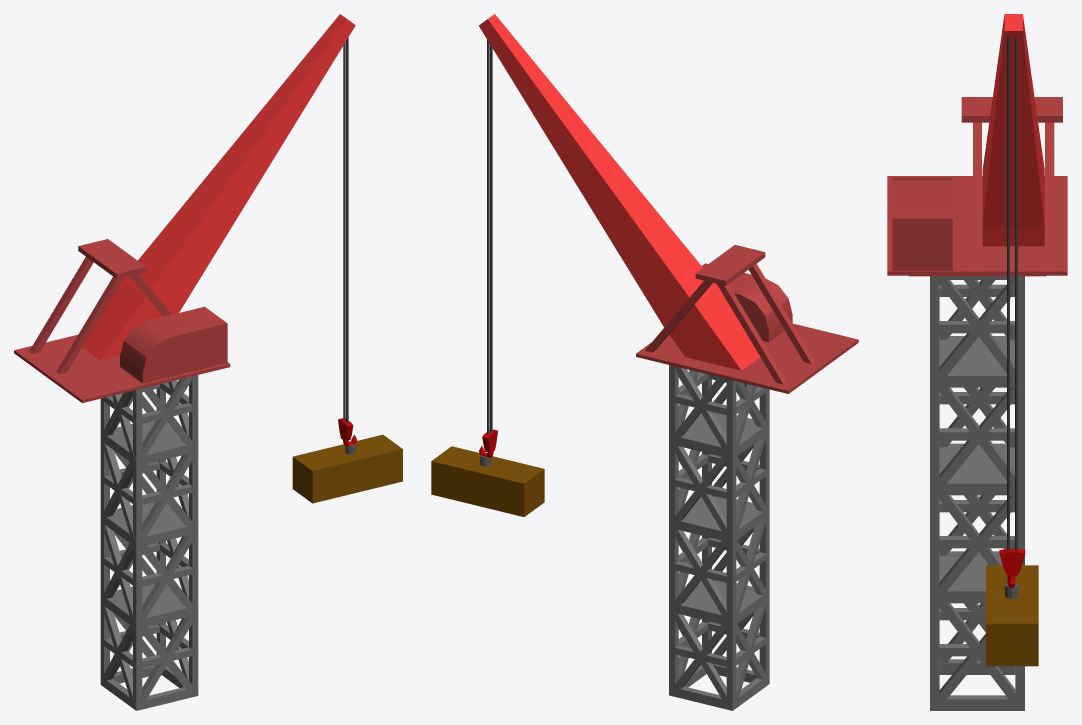
File: cren.fbx
3 renders of one model, left to right at view 1: azimuth 30°, elevation 25°; view 2: azimuth 150°, elevation 25°; view 3: azimuth 270°, elevation 25°, orthographic. The views are drawn at different scales.
Parts seen in each view (by area): view 1: group1_pCube3, polySurface3, pCube26, pCube25, pCylinder12; view 2: group1_pCube3, polySurface3, pCube26, pCube25, pCylinder12; view 3: group1_pCube3, pCube26, polySurface3, pCube25, pCylinder12, pCylinder13.
Part boxes in pixels (x1,y1,x2,y2): group1_pCube3: (100, 375, 198, 710); polySurface3: (82, 14, 355, 360); pCube26: (14, 239, 230, 402); pCube25: (292, 434, 402, 503); pCylinder12: (343, 37, 348, 422); group1_pCube3: (669, 365, 769, 710); polySurface3: (479, 14, 760, 370); pCube26: (636, 245, 858, 393); pCube25: (431, 446, 544, 516); pCylinder12: (487, 40, 492, 434); group1_pCube3: (930, 276, 1024, 710); pCube26: (887, 97, 1067, 276); polySurface3: (982, 14, 1044, 246); pCube25: (986, 565, 1038, 666); pCylinder12: (1007, 37, 1017, 551); pCylinder13: (999, 548, 1025, 587).
Bounding box in the file's own units: 122 × 200 × 40.36.
